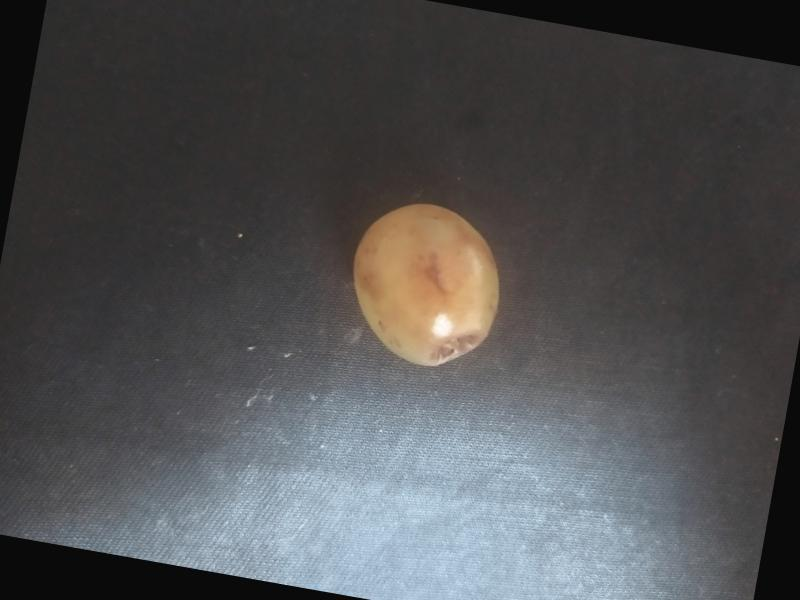Grape Rotten: (336, 189, 517, 379)
